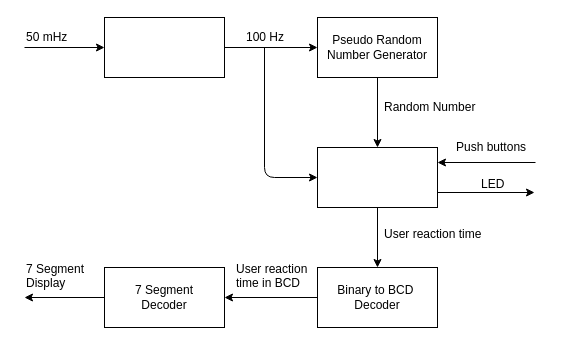
Some shapes in this 562 by 345 pixel diagram are drawn without their labels. Each missing label, with the centre of its shape:
"100 Hz Clock Divider" belongs at point 164,47.
"Timer Logic" belongs at point 377,177.
